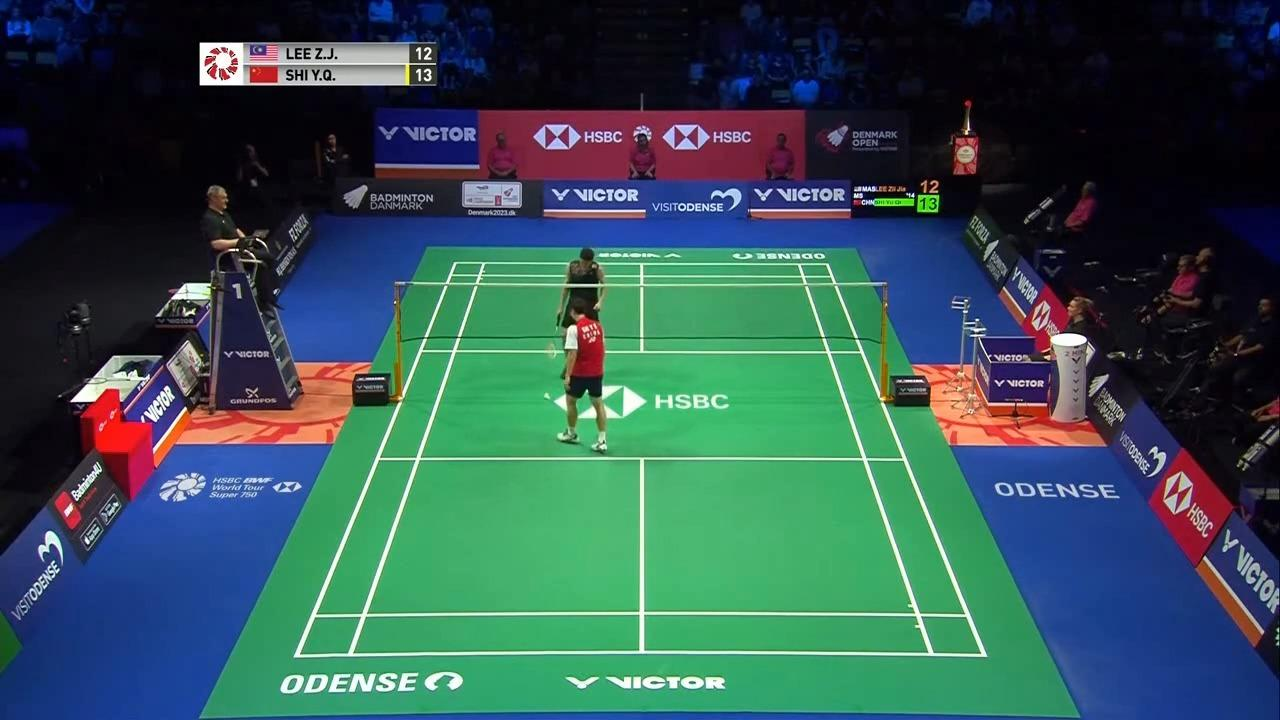shuttle: (541, 390, 552, 401)
